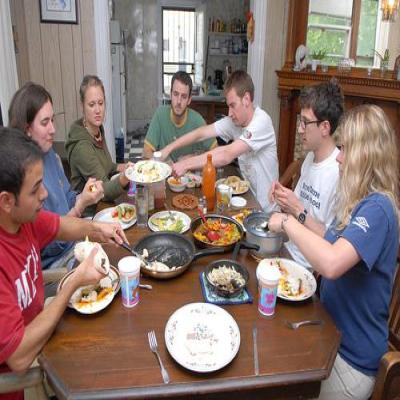netural: (22, 158, 49, 221), (35, 98, 56, 154), (295, 107, 321, 148), (224, 86, 247, 126), (172, 80, 188, 116)
sad: (86, 82, 105, 125)
